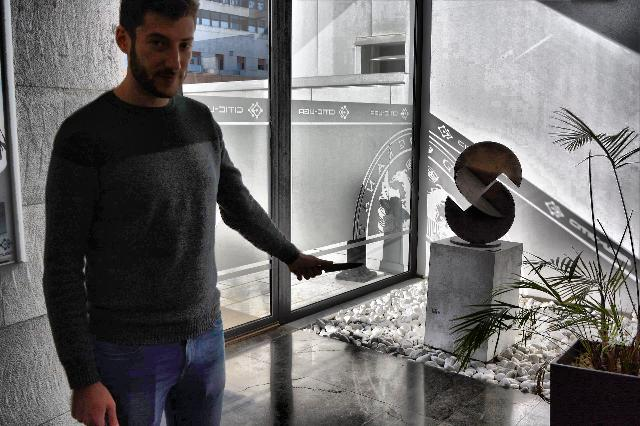knife: (309, 258, 366, 278)
